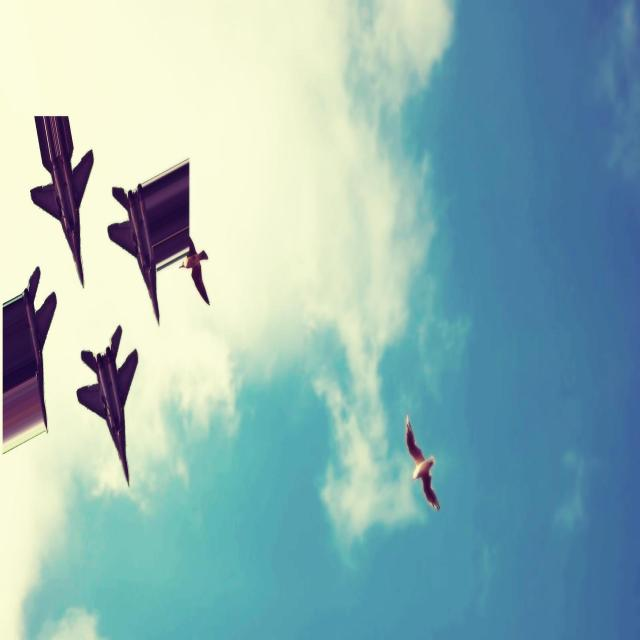airplane: (107, 156, 210, 325), (29, 114, 94, 287), (1, 265, 57, 454), (76, 324, 138, 486)
